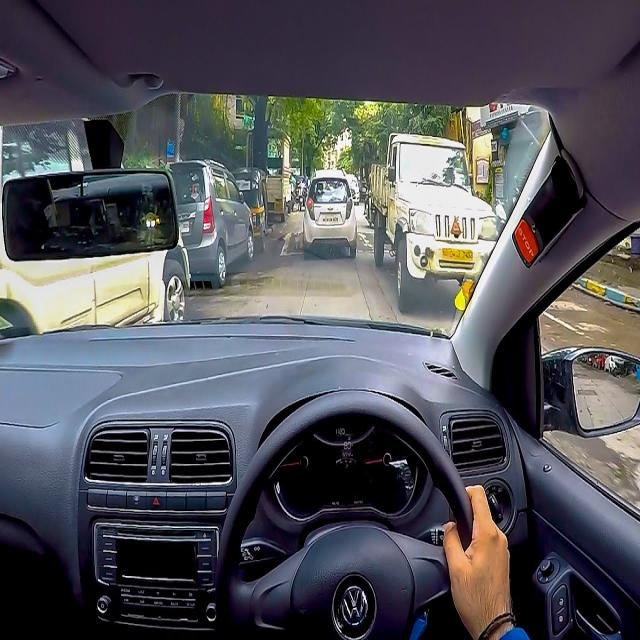Truck: (368, 132, 504, 312)
